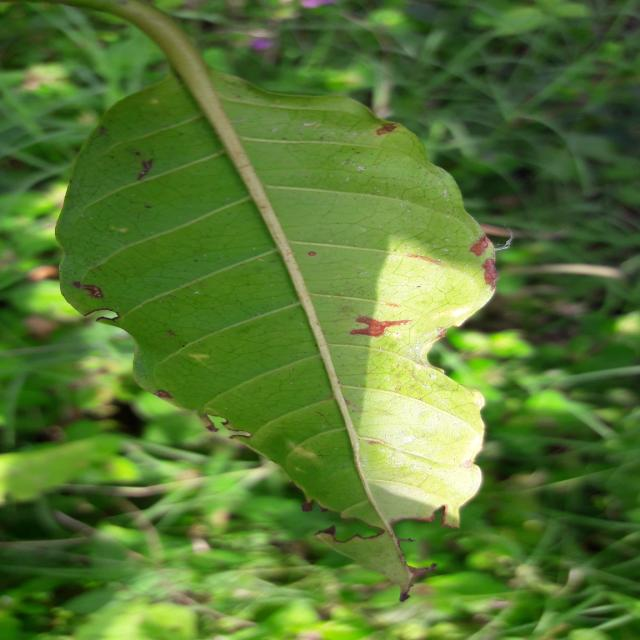Plaga-AranaRoja: (55, 0, 512, 593)
